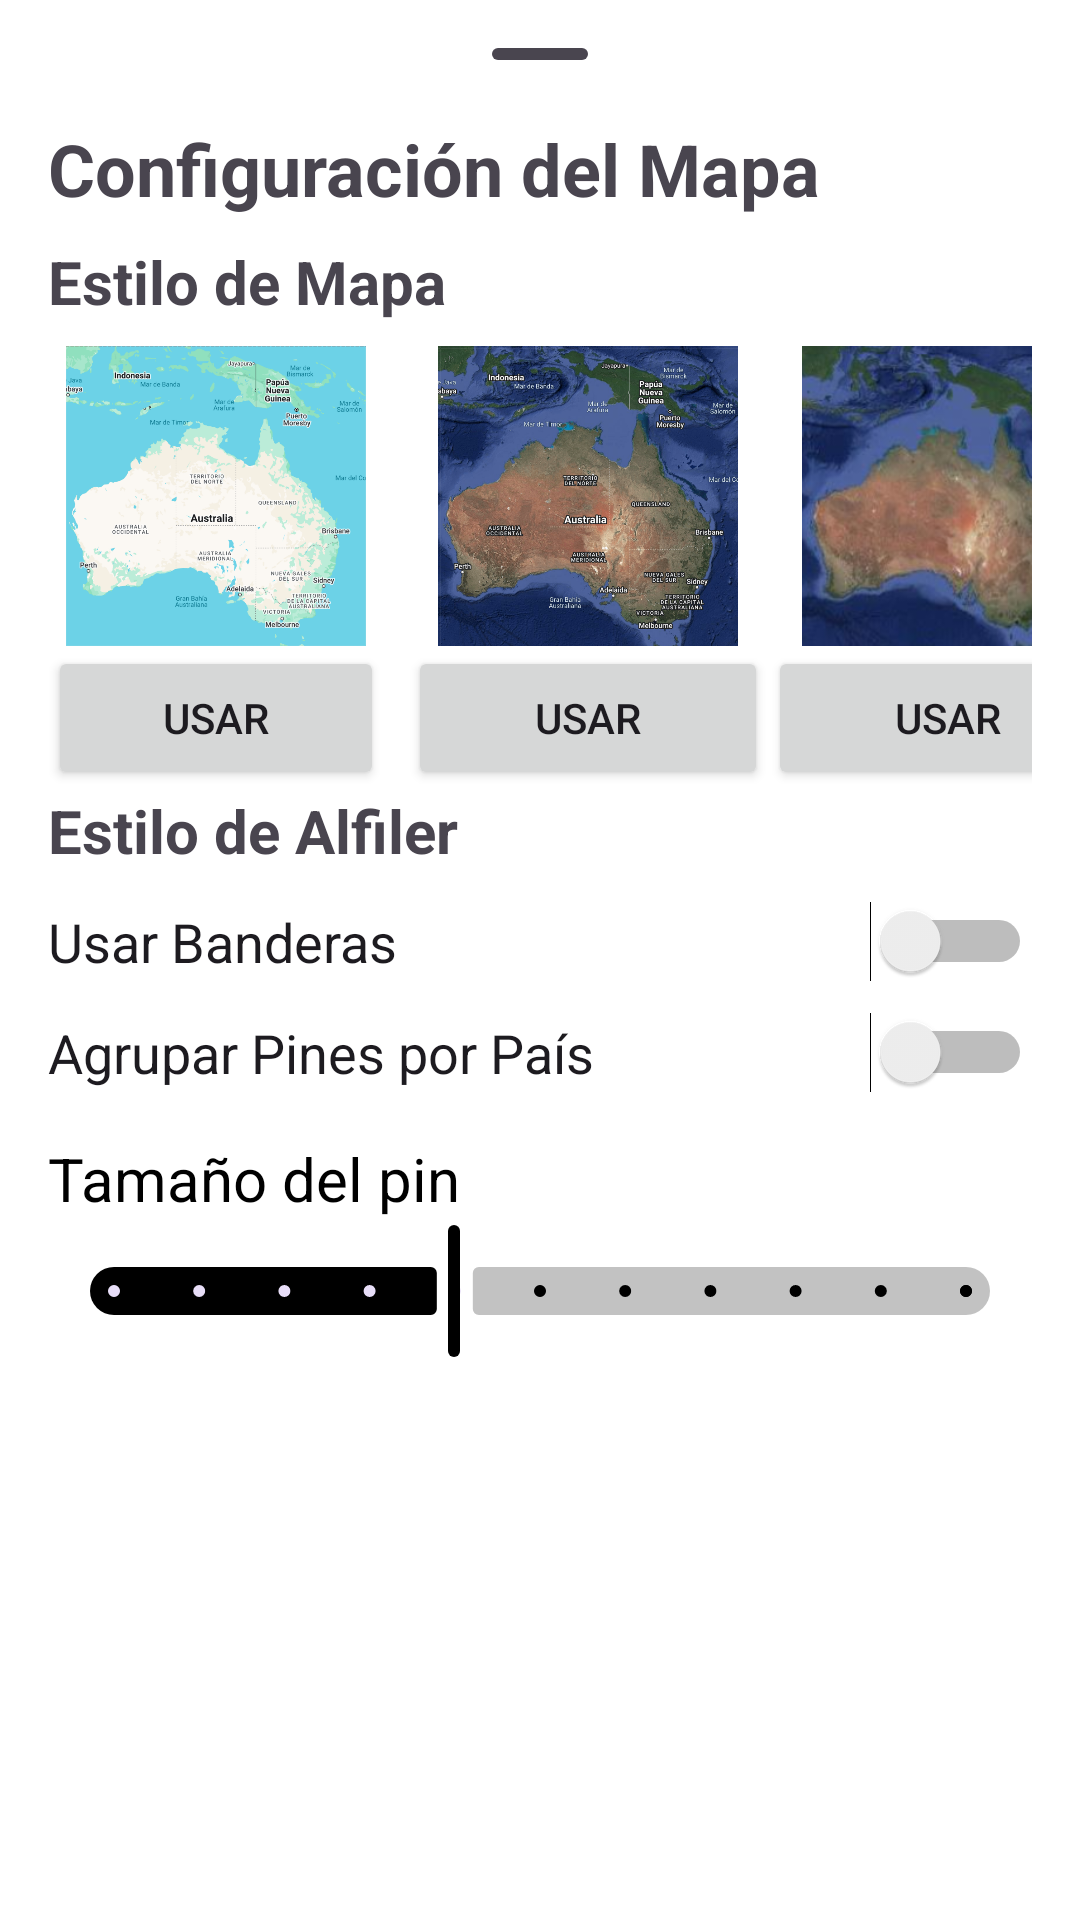

Icon bounding boxes for this 1080px×1920px phone screenshot, format Rect(x1, y1, x2, y2):
map: Rect(66, 346, 366, 646)
map hybrid: Rect(438, 346, 738, 646)
